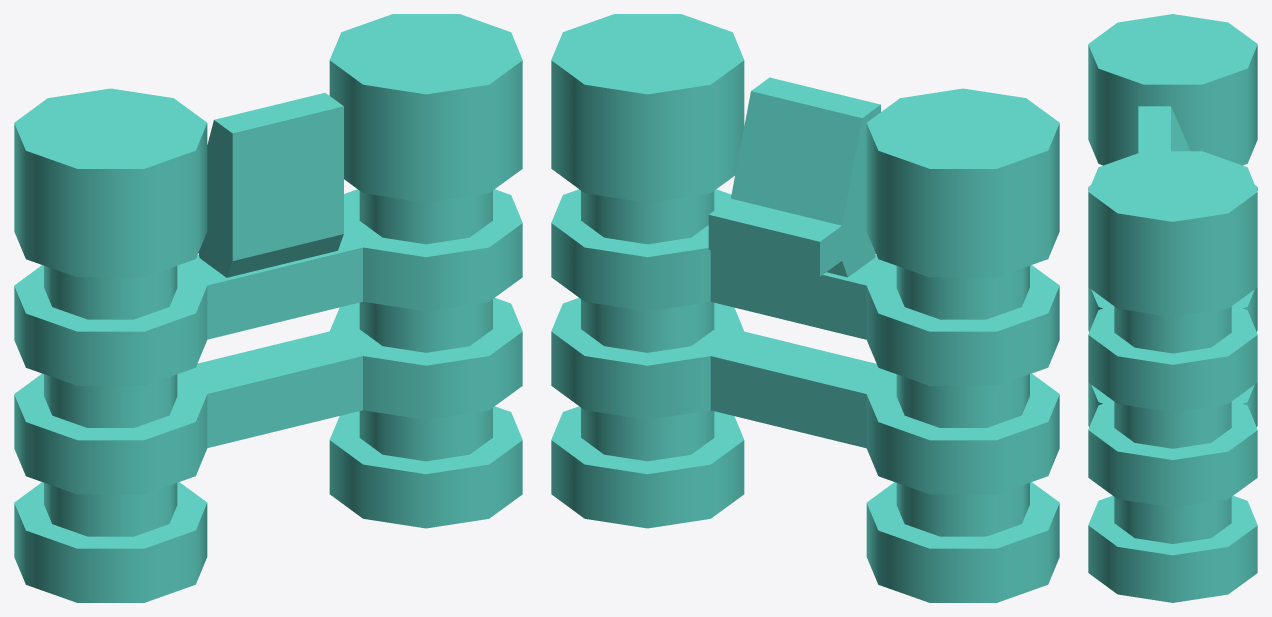
The model's file is Generator.fbx.
3 views of the same model, side by side, from view 1: azimuth 30°, elevation 25°; view 2: azimuth 150°, elevation 25°; view 3: azimuth 270°, elevation 25° (orthographic). The views are drawn at different scales.
Visible parts, largest first — view 1: Generator; view 2: Generator; view 3: Generator.
Part boxes in pixels (left/top/right/bottom): Generator: left=14, top=14, right=522, bottom=602; Generator: left=551, top=14, right=1059, bottom=602; Generator: left=1088, top=14, right=1257, bottom=602.
Size of the model in its own units: 111 by 95.26 by 38.43.
